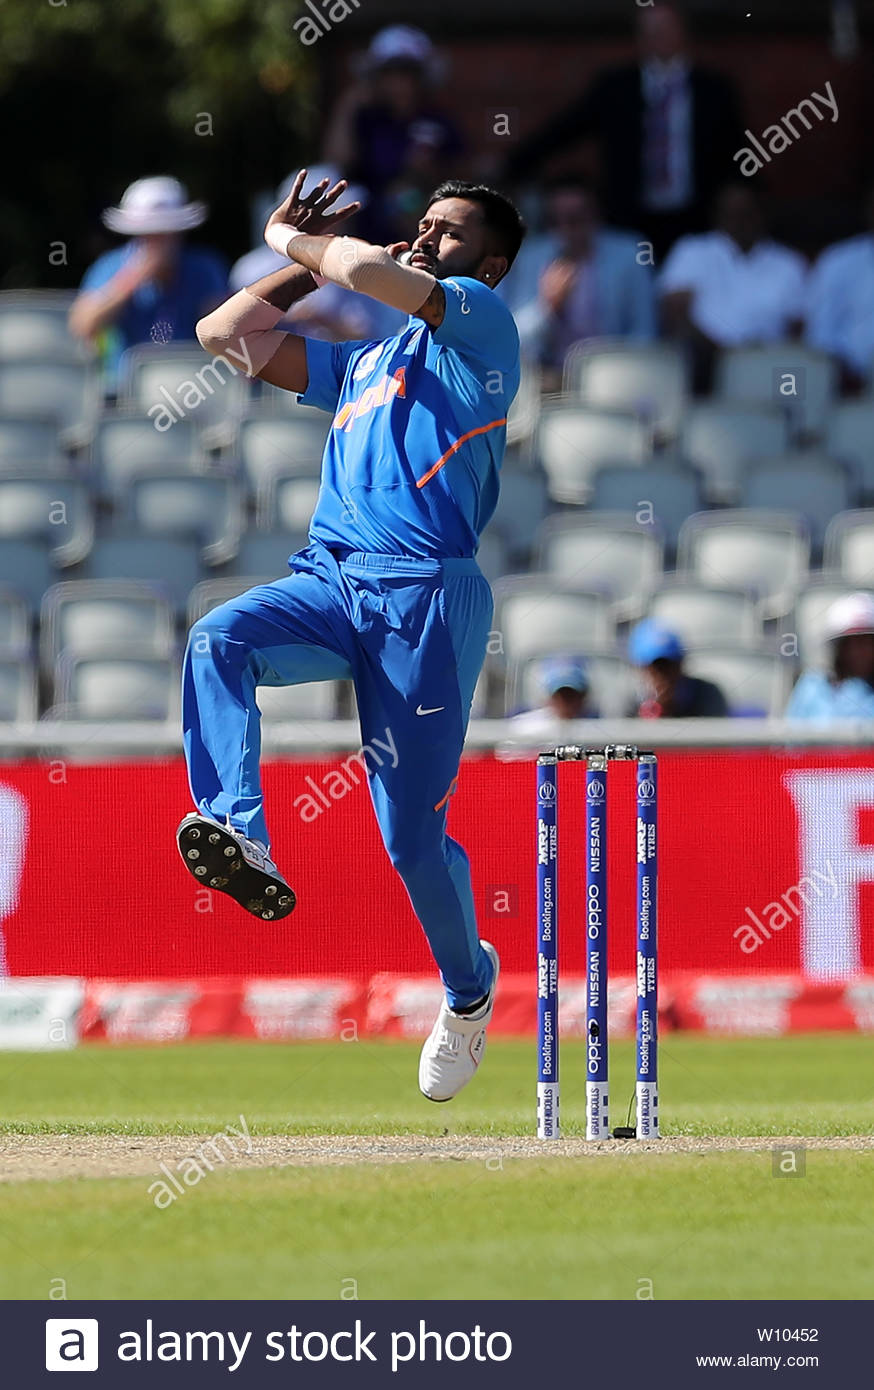Hip: (324, 494, 447, 615)
LeftAnkle: (408, 942, 515, 1072)
LeftElbow: (334, 196, 388, 358)
LeftKnee: (380, 803, 456, 904)
LeftShoulder: (451, 255, 530, 400)
RightAnkle: (174, 781, 294, 937)
RightElbow: (189, 250, 271, 425)
RightKnee: (174, 577, 272, 720)
